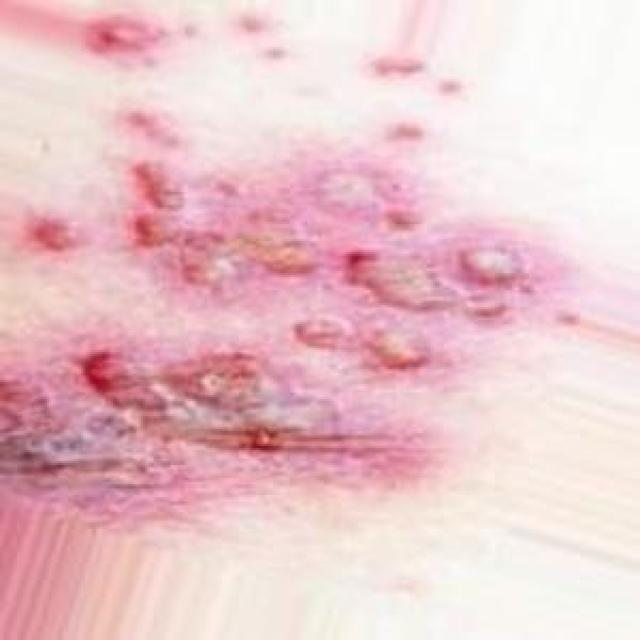Shingles: (0, 107, 528, 445)
